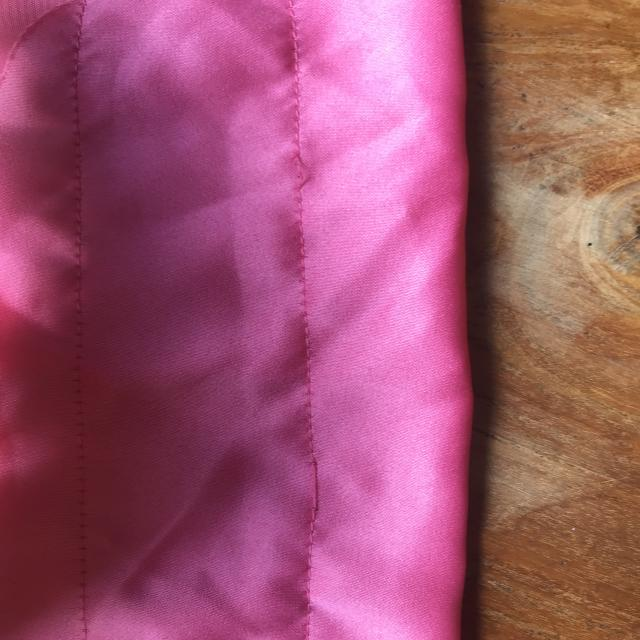broken: (258, 129, 328, 211)
skip: (283, 436, 346, 528)
